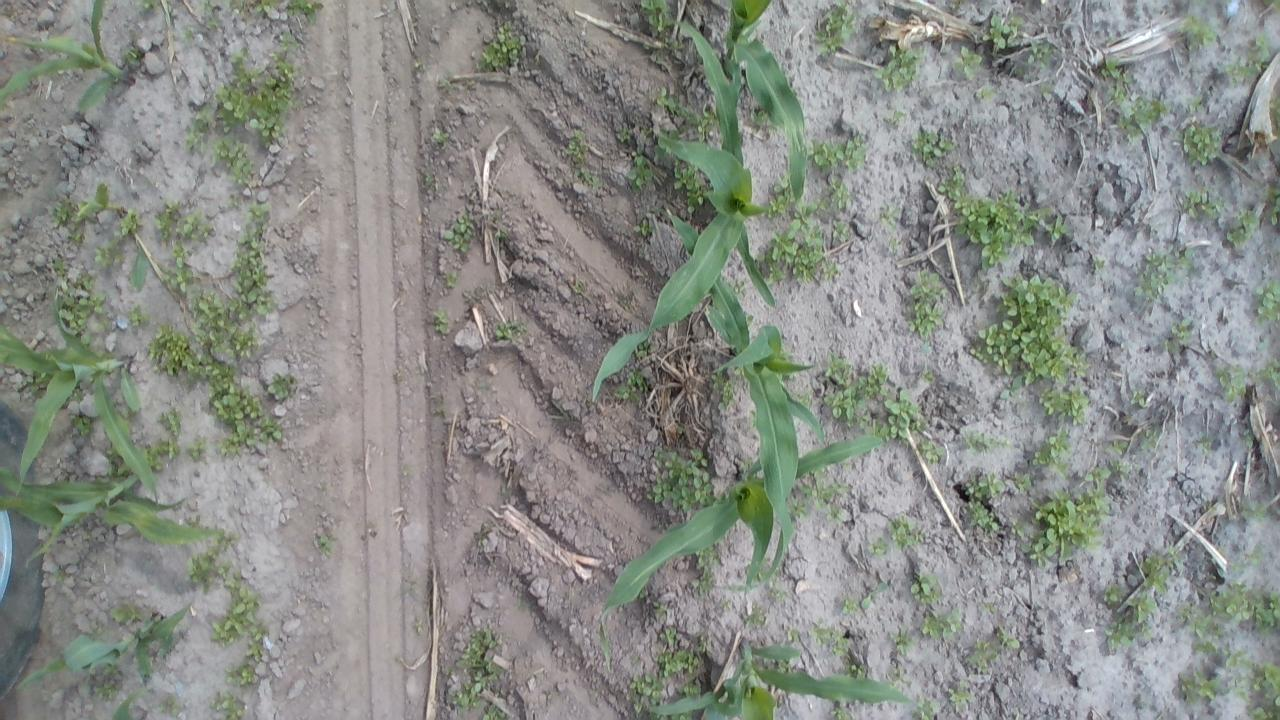Maize: (588, 19, 778, 403), (597, 436, 884, 672), (665, 207, 814, 589), (1, 287, 160, 508), (650, 638, 924, 720), (725, 0, 808, 202), (0, 0, 137, 115), (1, 469, 205, 544), (15, 602, 192, 688), (73, 184, 122, 222), (112, 691, 136, 718)
Weeds: (969, 274, 1091, 386), (187, 350, 264, 452), (956, 192, 1052, 266), (1029, 490, 1108, 570), (254, 50, 296, 150), (650, 450, 713, 509), (213, 572, 261, 646), (1211, 583, 1280, 632), (789, 475, 851, 522), (455, 629, 492, 707), (232, 250, 276, 312), (909, 268, 947, 336), (1227, 650, 1280, 698), (150, 324, 193, 373), (816, 4, 856, 56), (190, 294, 230, 346), (884, 390, 922, 440), (872, 49, 916, 92), (1038, 389, 1090, 425), (213, 140, 254, 184), (761, 230, 797, 280), (214, 88, 253, 134), (911, 124, 954, 165), (60, 290, 104, 330), (671, 100, 716, 138), (482, 26, 518, 73), (651, 640, 700, 674), (188, 550, 228, 590), (1139, 249, 1169, 301), (1184, 124, 1222, 162), (1102, 52, 1130, 103), (798, 222, 824, 276), (1034, 428, 1070, 466), (962, 500, 1000, 534), (1176, 670, 1216, 702), (822, 387, 858, 422), (1182, 12, 1217, 47), (934, 164, 968, 200), (1176, 604, 1212, 638), (631, 672, 665, 708), (1228, 209, 1258, 249), (1135, 93, 1169, 127), (144, 438, 178, 472), (171, 246, 196, 292), (1220, 362, 1247, 404), (1145, 550, 1170, 594), (446, 213, 474, 252), (810, 138, 843, 170), (859, 364, 890, 398), (1255, 280, 1280, 322), (182, 212, 218, 240), (788, 200, 813, 240), (210, 693, 246, 720), (891, 513, 920, 546), (1244, 30, 1272, 64), (968, 639, 996, 672), (231, 47, 258, 81), (1182, 190, 1214, 218), (982, 15, 1008, 49), (911, 572, 940, 602), (644, 0, 668, 36), (954, 46, 979, 80), (616, 373, 644, 403), (826, 356, 856, 384), (232, 330, 260, 360), (844, 132, 866, 170), (230, 0, 284, 15), (962, 431, 1000, 452), (562, 132, 590, 160), (96, 667, 120, 699), (155, 201, 179, 233), (630, 154, 652, 188), (976, 471, 1004, 497), (1226, 61, 1264, 80), (1104, 618, 1128, 648), (226, 664, 256, 688), (288, 0, 322, 21), (997, 375, 1023, 402), (859, 584, 890, 606), (807, 618, 831, 646), (942, 608, 961, 642), (1082, 468, 1110, 491), (682, 183, 704, 212), (270, 374, 294, 400), (1117, 112, 1141, 138), (1026, 38, 1048, 66), (640, 591, 664, 616), (1242, 503, 1270, 524), (892, 625, 912, 654), (996, 624, 1020, 648), (1129, 598, 1153, 622), (240, 226, 267, 247), (674, 165, 696, 190), (1266, 187, 1280, 226), (53, 193, 69, 226), (915, 696, 940, 717), (916, 441, 942, 461), (493, 321, 518, 341), (162, 410, 181, 436), (1247, 542, 1266, 568), (245, 634, 264, 660), (114, 606, 141, 624), (744, 602, 766, 624), (696, 549, 718, 571), (694, 572, 716, 594), (947, 687, 971, 707), (188, 434, 206, 460), (1006, 15, 1027, 37), (1012, 472, 1034, 493), (919, 616, 940, 638), (1102, 588, 1124, 609), (831, 182, 849, 207), (216, 532, 240, 550), (94, 245, 115, 265), (122, 44, 142, 65), (1168, 250, 1190, 269), (881, 201, 896, 228), (122, 210, 138, 235), (230, 298, 250, 318), (1046, 216, 1064, 238), (1266, 358, 1280, 386), (581, 168, 601, 187), (766, 194, 785, 214), (660, 626, 679, 646), (72, 415, 90, 436), (1108, 455, 1126, 476), (312, 533, 330, 554), (714, 598, 734, 616), (1009, 519, 1026, 540), (824, 260, 840, 282), (482, 704, 504, 720), (748, 112, 770, 128), (633, 219, 651, 238), (832, 220, 848, 241), (185, 126, 200, 148), (266, 418, 282, 438), (614, 122, 630, 142), (832, 636, 847, 657), (1246, 706, 1268, 720), (654, 86, 670, 105), (130, 309, 146, 328), (1190, 642, 1215, 654), (248, 205, 268, 220), (436, 311, 450, 332), (710, 372, 724, 393), (828, 708, 852, 720), (475, 524, 491, 542), (770, 588, 789, 603), (76, 268, 90, 288), (774, 175, 790, 192), (1171, 321, 1188, 337), (1132, 389, 1149, 405), (50, 256, 66, 273), (1198, 437, 1212, 456), (1146, 428, 1160, 447), (722, 384, 734, 406), (1132, 624, 1154, 636), (1166, 546, 1182, 562), (196, 110, 211, 126), (1269, 698, 1280, 719), (681, 682, 700, 694), (886, 236, 900, 252), (890, 110, 904, 126), (1166, 340, 1182, 354), (867, 540, 883, 554), (850, 664, 866, 678), (432, 132, 447, 146), (981, 600, 996, 613), (1251, 368, 1263, 384), (1190, 96, 1204, 109), (842, 601, 856, 614), (436, 74, 451, 86), (274, 38, 296, 46), (161, 697, 174, 710), (140, 0, 154, 12), (1112, 440, 1127, 450), (1264, 0, 1280, 9), (922, 368, 933, 381), (1092, 258, 1106, 268), (1040, 80, 1054, 90), (964, 481, 974, 494), (637, 343, 648, 354), (732, 280, 744, 290), (978, 89, 992, 97), (207, 20, 220, 28), (72, 232, 82, 242), (184, 26, 194, 36), (416, 620, 423, 634), (114, 231, 124, 240), (446, 276, 455, 286), (426, 176, 434, 185), (203, 2, 213, 8), (576, 286, 582, 294), (396, 373, 400, 382)
